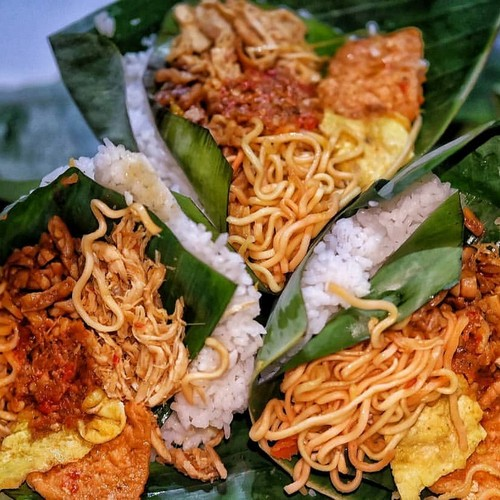nasi jinggo: (10, 132, 255, 485)
